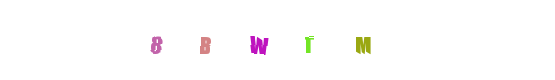8: (148, 0, 228, 80)
B: (218, 0, 298, 80)
M: (307, 0, 387, 80)
T: (285, 0, 365, 80)
W: (237, 0, 317, 80)
